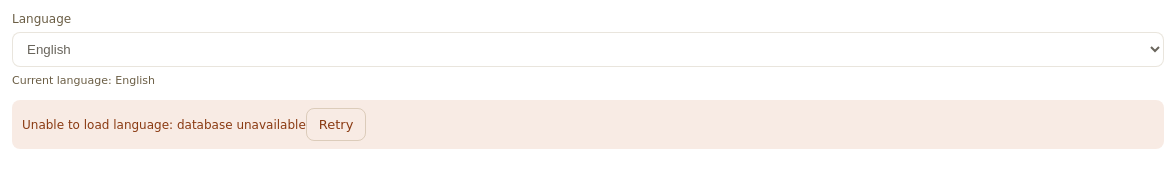
Scenario: keeps a failed read visible and disables preference writes until it is retried
Expected: the dropdown labelled "Language" is disabled, [12,32,1164,67]
Expected: the message "Unable to load language: database unavailable Retry" is shown, [12,100,1164,149]
Click the button "Retry". click: x=336, y=124
box: [306,108,366,141]
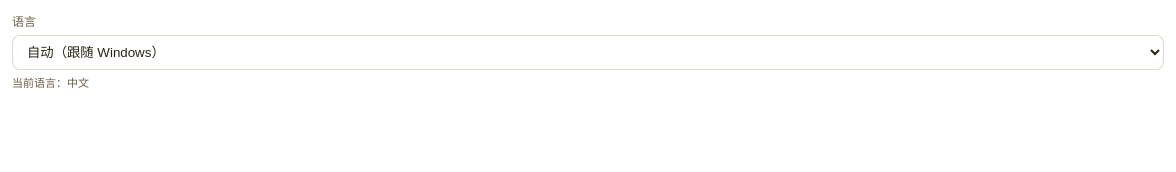
Now the dropdown labelled "语言" is enabled, box [12,35,1164,70]
Now the dropdown labelled "语言" shows "自动（跟随 Windows）", box [12,35,1164,70]
